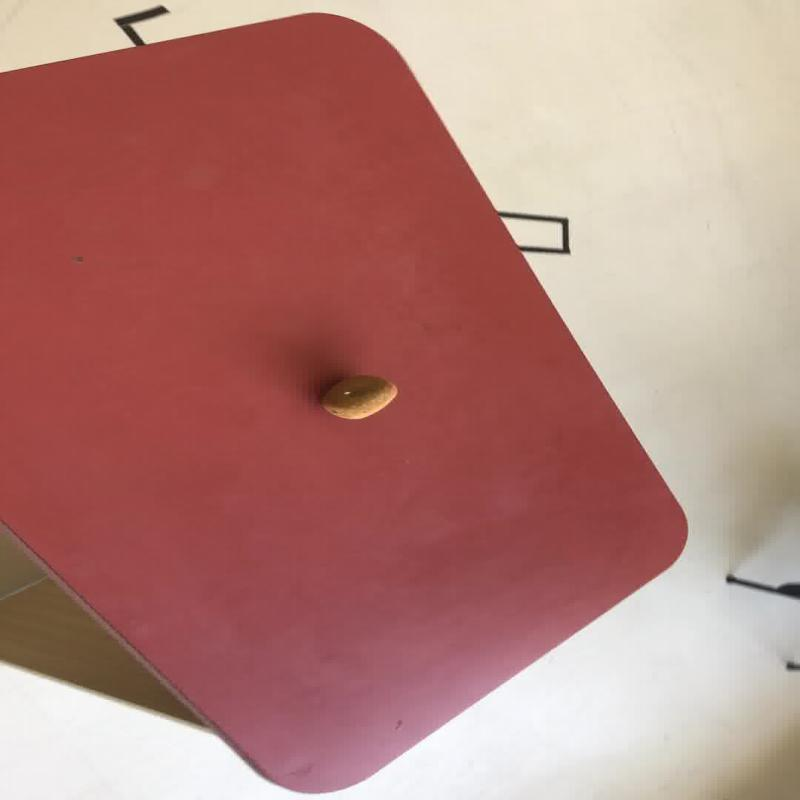kiwi: (1, 5, 689, 793), (319, 374, 397, 420)
